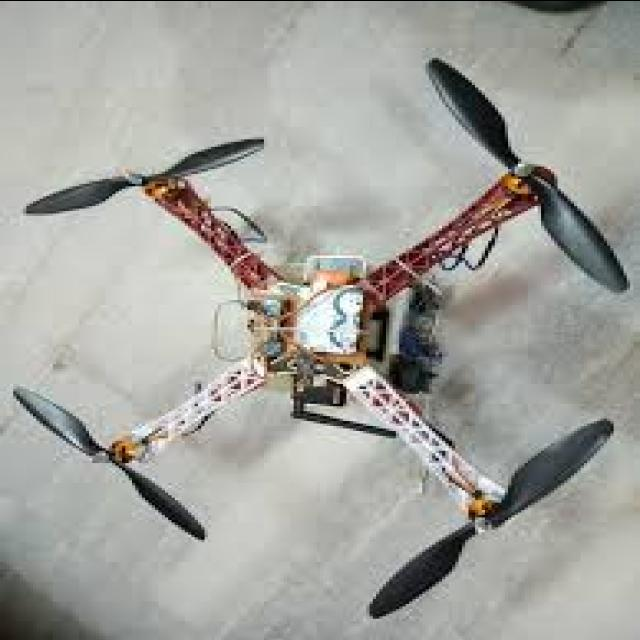drone: (22, 75, 627, 590)
